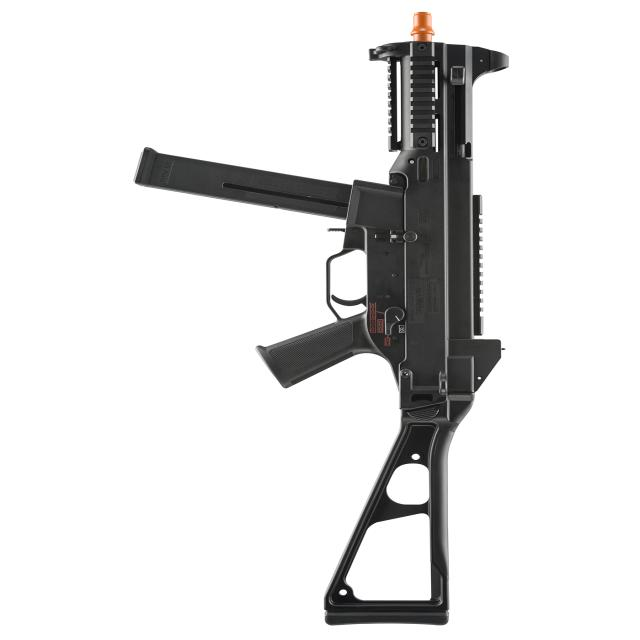SMG: (133, 14, 510, 628)
